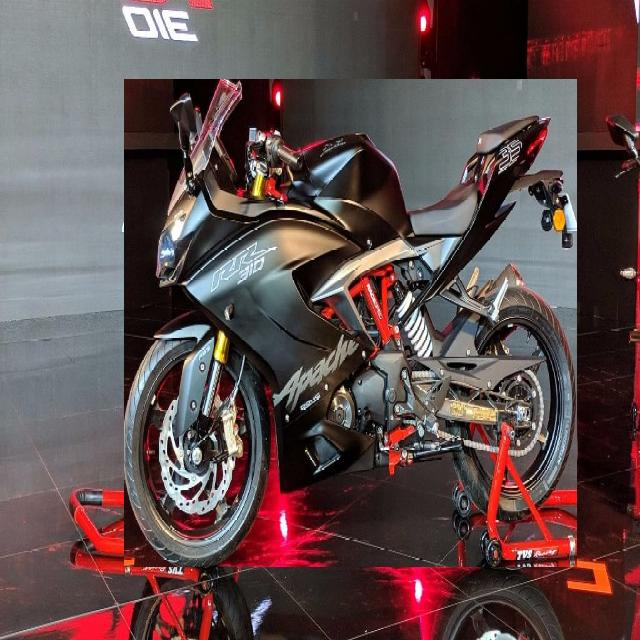motorcycle: (124, 80, 576, 567)
